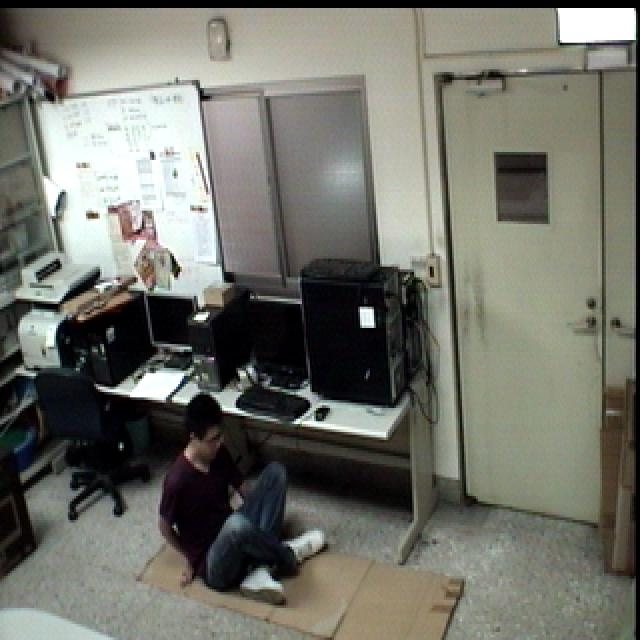sit: (154, 387, 330, 612)
